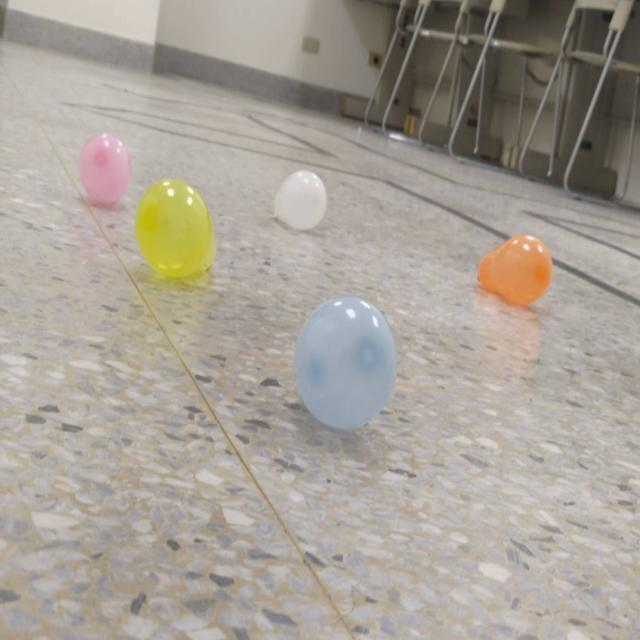other: (295, 295, 397, 430), (134, 178, 217, 277), (476, 233, 554, 306), (77, 133, 131, 204), (272, 171, 326, 229)
